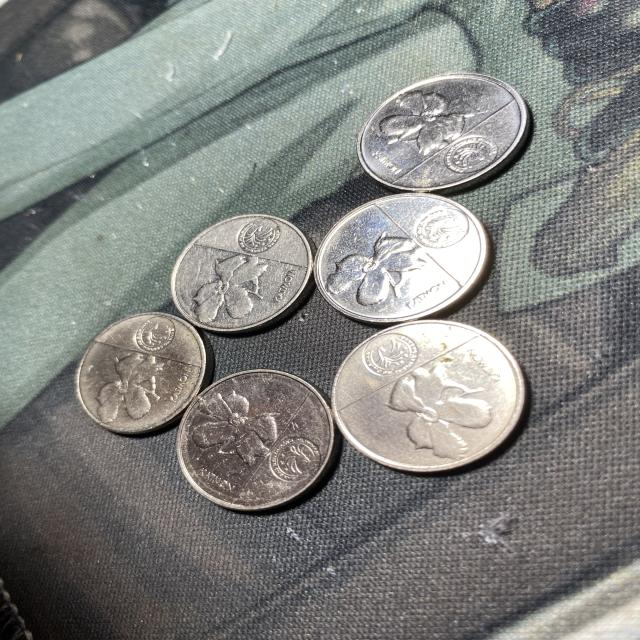25Cent_New_Back: (364, 357, 496, 467), (316, 225, 434, 323), (184, 379, 283, 471), (180, 246, 278, 329), (86, 342, 170, 433), (370, 86, 479, 155)
